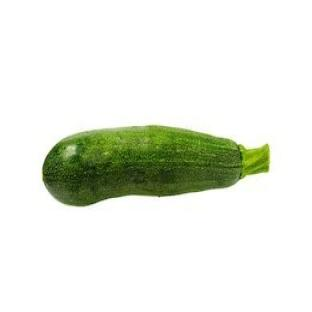Zucchini: (43, 126, 269, 205)
